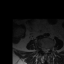CCS_normal: (44, 46, 46, 54)
LFS_stenosis: (49, 46, 51, 51)
LLS_normal: (46, 47, 49, 52)
RFS_normal: (40, 45, 42, 52)
RLS_normal: (42, 46, 45, 52)
